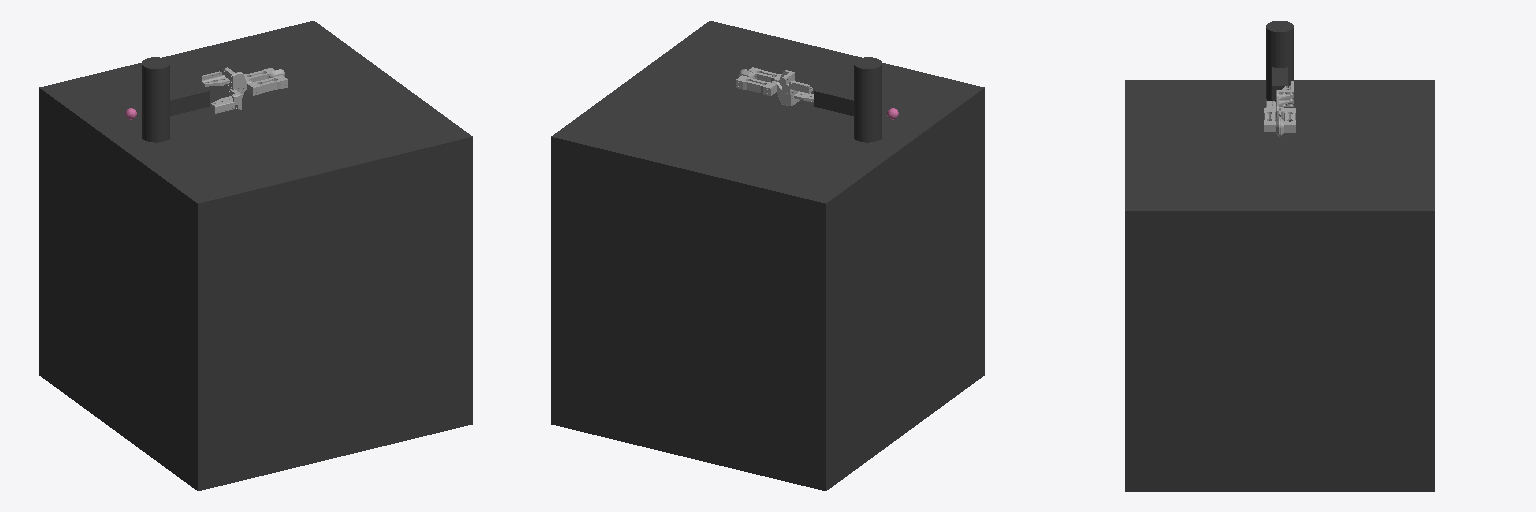
robot.urdf — boxBot:
<?xml version="1.0" ?>
<robot name="boxBot">
    <material name="white">
        <color rgba="1 1 1 1"/>
    </material>
    <material name="darkGrey">
        <color rgba="0.3 0.3 0.3 1"/>
    </material>
    <material name="lightGrey">
        <color rgba="0.7 0.7 0.7 1"/>
    </material>

    <link name="base">
        <contact>
            <lateral_friction value="1.0"/>
            <rolling_friction value="10.0"/>
            <contact_cfm value="0.0"/>
            <contact_erp value="1.0"/>
        </contact>
        <inertial>
            <origin rpy="0 0 0" xyz="0 0 0"/>
            <mass value="10000.0"/>
            <inertia ixx="1" ixy="0" ixz="0" iyy="1" iyz="0" izz="1"/>
        </inertial>
        <visual>
          <origin rpy="0 0 0" xyz="0 0 0"/>
           <geometry>
	 	    <box size="0.55 0.55 0.55"/>
            </geometry>
           <material name="darkGrey" />
        </visual>
        <collision>
          <origin rpy="0 0 0" xyz="0 0 0"/>
          <geometry>
	 	    <box size="0.55 0.55 0.55"/>
            </geometry>
        </collision>
    </link>

    <link name="torso">
        <inertial>
            <origin rpy="0 0 0" xyz="0 0 0"/>
            <mass value="1.0"/>
            <inertia ixx="1" ixy="0" ixz="0" iyy="1" iyz="0" izz="1"/>
        </inertial>
        <visual>
          <origin rpy="0 0 0" xyz="0 0 0"/>
          <geometry>
              <cylinder length="0.43" radius="0.025" />
          </geometry>
        <material name="darkGrey" />
        </visual>
    </link>

    <link name="arm">
        <inertial>
            <origin rpy="0 0 0" xyz="0 0 0"/>
            <mass value="1.0"/>
            <inertia ixx="1" ixy="0" ixz="0" iyy="1" iyz="0" izz="1"/>
        </inertial>
        <visual>
          <origin rpy="0 0 0" xyz="0 0 0"/>
          <geometry>
            <box size="0.1 0.03 0.03"/>
          </geometry>
        <material name="darkGrey" />
        </visual>
    </link>

    <link name="gripper">
        <inertial>
          <origin rpy="0.0 0.0 0.0" xyz="-0.000294 0.000291 -0.033086"/>
          <mass value="0.602660"/>
          <inertia ixx="0.000693" ixy="0.000045" ixz="-0.000000" iyy="0.001024" iyz="0.000000" izz="0.000672"/>
        </inertial>
        <visual>
          <origin rpy="0 0 0" xyz="0 0 0"/>
          <geometry>
            <mesh filename="meshes/gripper/gripper_link.stl"/>
          </geometry>
          <material name="white"/>
        </visual>
        <collision>
          <origin rpy="0 0 0" xyz="0 0 0"/>
          <geometry>
            <mesh filename="meshes/gripper/gripper_link_collision.stl"/>
          </geometry>
        </collision>
    </link>

    <link name="gripper_right_finger_link">
        <inertial>
          <origin rpy="0 0 0" xyz="-0.004470 0.010766 -0.121013"/>
          <mass value="0.109980"/>
          <inertia ixx="0.000232" ixy="-0.000005" ixz="-0.000032" iyy="0.000224" iyz="0.000036" izz="0.000029"/>
        </inertial>
        <visual>
          <origin rpy="0 0 3.1415" xyz="0 0 0"/>
          <geometry>
            <mesh filename="meshes/gripper/gripper_finger_ta11_link.stl" scale="-1 -1 1"/>
          </geometry>
          <material name="lightGrey"/>
        </visual>
        <collision>
          <origin rpy="0 0 3.1415" xyz="0.005 0 -0.165"/>
          <geometry>
            <box size="0.01 0.05 0.11"/>
          </geometry>
        </collision>
    </link>

    <link name="gripper_left_finger_link">
        <inertial>
          <origin rpy="0 0 0" xyz="-0.004470 0.010766 -0.121013"/>
          <mass value="0.109980"/>
          <inertia ixx="0.000232" ixy="-0.000005" ixz="-0.000032" iyy="0.000224" iyz="0.000036" izz="0.000029"/>
        </inertial>
        <visual>
          <origin rpy="0 0 3.1415" xyz="0 0 0"/>
          <geometry>
            <mesh filename="meshes/gripper/gripper_finger_ta11_link.stl"/>
          </geometry>
          <material name="lightGrey"/>
        </visual>
        <collision>
          <origin rpy="0 0 3.1415" xyz="-0.005 0 -0.165"/>
          <geometry>
            <box size="0.01 0.05 0.11"/>
          </geometry>
        </collision>
    </link>

    <joint name="base_to_torso" type="fixed">
        <parent link="base"/>
        <child link="torso"/>
        <origin xyz="-0.2 0 0.2"/>
    </joint>

    <joint name="torso_lift_joint" type="prismatic">
        <parent link="torso"/>
        <child link="arm"/>
        <origin xyz="0.05 0 0.13"/>
        <limit effort="1000.0" lower="0" upper="0.05" velocity="0.5"/>
        <axis xyz="0 0 1"/>
    </joint>

    <joint name="arm_to_gripper" type="fixed">
        <parent link="arm"/>
        <child link="gripper"/>
        <origin rpy="1.5707 0 -1.5707" xyz="0 0 0"/>
    </joint>

    <joint name="gripper_right_finger_joint" type="prismatic">
        <origin rpy="0 0 0" xyz="0. 0 0"/>
        <parent link="gripper"/>
        <child link="gripper_right_finger_link"/>
        <axis xyz="1 0 0"/>
        <limit effort="16" lower="0.0" upper="0.045" velocity="0.05"/>
        <calibration rising="0.0"/>
        <dynamics damping="80"/>
        <safety_controller k_position="20" k_velocity="20" soft_lower_limit="0.001" soft_upper_limit="0.044"/>
    </joint>

    <joint name="gripper_left_finger_joint" type="prismatic">
        <origin rpy="0 0 0" xyz="0. 0 0"/>
        <parent link="gripper"/>
        <child link="gripper_left_finger_link"/>
        <axis xyz="-1 0 0"/>
        <limit effort="16" lower="0" upper="0.045" velocity="0.05"/>
        <calibration rising="0.0"/>
        <dynamics damping="80"/>
        <safety_controller k_position="20" k_velocity="20" soft_lower_limit="0.001" soft_upper_limit="0.044"/>
    </joint>
       <joint name="endeffector_joint" type="fixed">
    <parent link="gripper"/>
    <child link="endeffector"/>
    <origin rpy="0 0 0" xyz="0 0.0 0.1"/>
  </joint>
  <link name="endeffector">
    <visual>
      <origin rpy="0 0 0" xyz="0 0.0 0.0"/>
      <geometry>
        <sphere radius="0.01"/>
      </geometry>
      <material name="LightGrey"/>
    </visual>
  </link>

</robot>

--- Facts derived from the render (not from the file) ---
Views: 3 orthographic renders of the robot side by side, from view 1: azimuth 30°, elevation 25°; view 2: azimuth 150°, elevation 25°; view 3: azimuth 270°, elevation 25°.
Model boxBot with 7 links and 6 joints (3 prismatic, 3 fixed), rooted at base, posed every joint at zero.
Links seen in each view (by area): view 1: base, torso, gripper_right_finger_link, arm, gripper_left_finger_link; view 2: base, torso, gripper_left_finger_link, arm, gripper_right_finger_link; view 3: base, torso, gripper_right_finger_link.
Link boxes in pixels (x1,y1,x2,y2): base: (39,21,472,490); torso: (142,57,169,142); gripper_right_finger_link: (201,67,287,95); arm: (170,85,209,115); gripper_left_finger_link: (211,68,279,113); base: (551,21,984,490); torso: (854,57,881,142); gripper_left_finger_link: (736,70,813,105); arm: (814,85,853,115); gripper_right_finger_link: (742,67,812,94); base: (1125,80,1434,491); torso: (1266,21,1293,101); gripper_right_finger_link: (1264,81,1293,136).
Bounding box of the posed robot: 0.55 × 0.55 × 0.69 m (x, y, z).
Meshes: 2 distinct files referenced, 2 mesh visuals loaded (1 binary STL); not drawn: 1 (reference not matched to a file when rendering).
